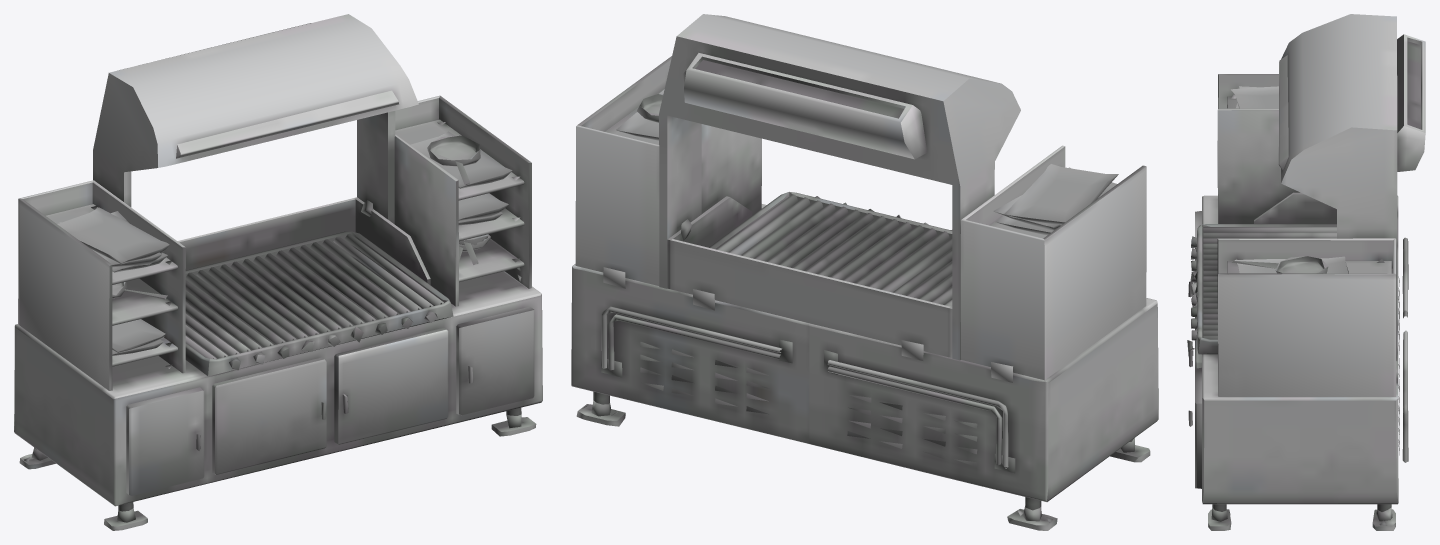
Rendered from Grill_C.glb.
The picture shows the model from 3 angles, left to right: view 1: azimuth 30°, elevation 25°; view 2: azimuth 150°, elevation 25°; view 3: azimuth 270°, elevation 25°; orthographic projection. The views are drawn at different scales.
Visible parts, largest first — view 1: IndustrialGrill; view 2: IndustrialGrill; view 3: IndustrialGrill.
Boxes of the visible parts, x1,y1,x2,y2 form: IndustrialGrill: [14, 14, 542, 530]; IndustrialGrill: [571, 14, 1158, 530]; IndustrialGrill: [1187, 14, 1425, 530].
Size of the model in its own units: 3.07 by 2.53 by 1.52.
Materials: 1 (1 with a texture image).
